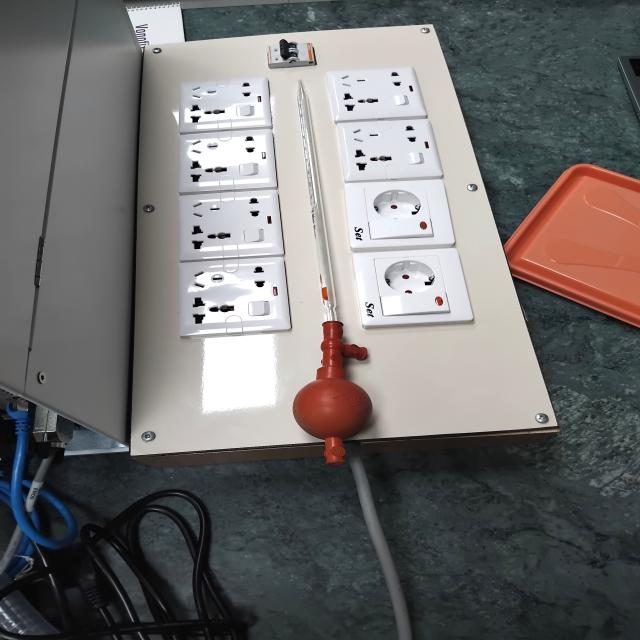Volumetric_Pipet: (257, 73, 395, 499)
